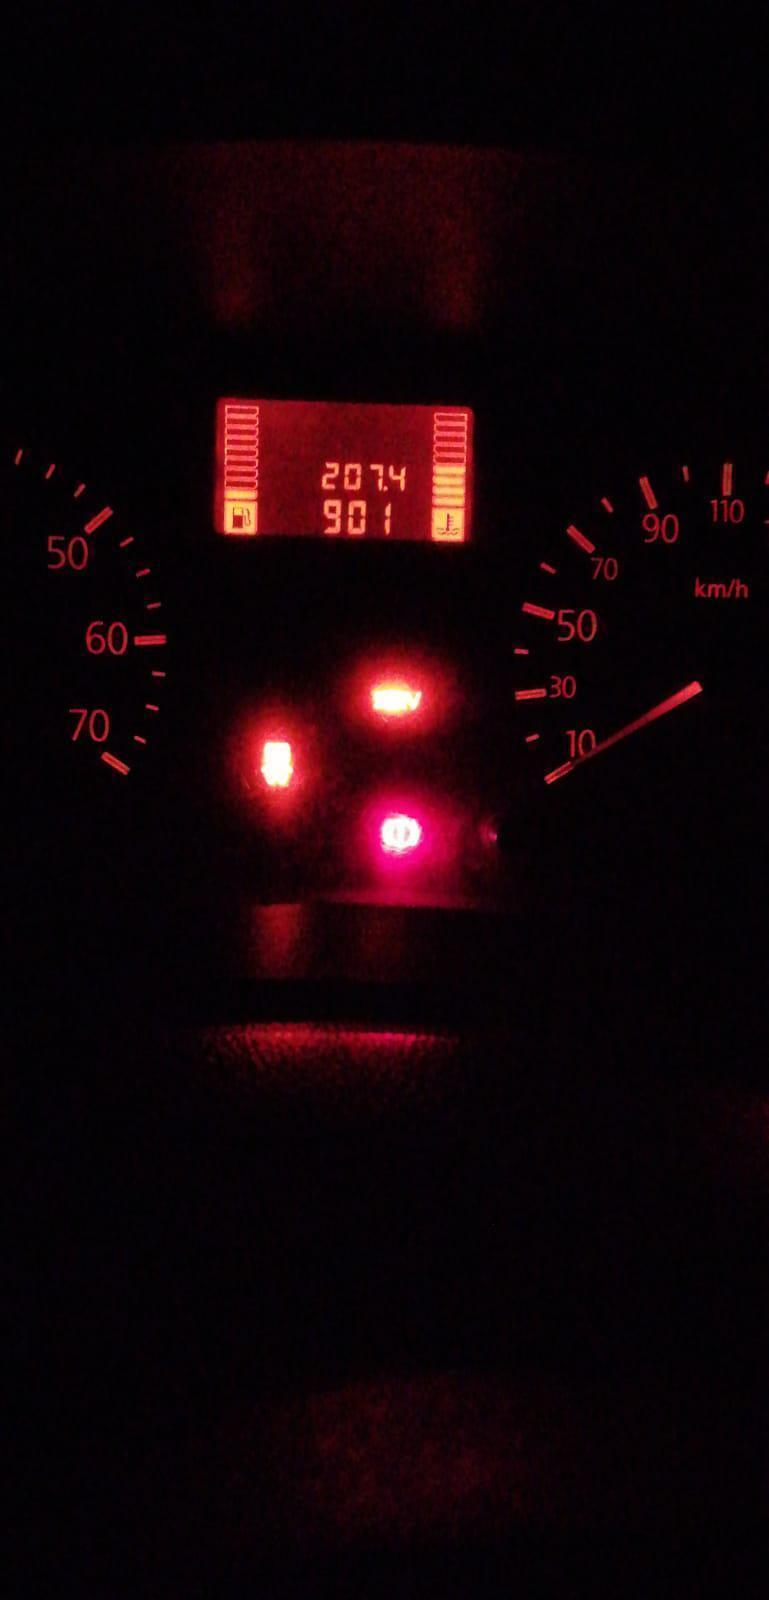,: (382, 485, 388, 492)
0: (346, 498, 367, 536), (342, 462, 362, 491)
1: (382, 502, 392, 537)
2: (320, 461, 339, 490)
4: (387, 464, 407, 492)
7: (368, 462, 385, 491)
9: (322, 498, 343, 535)
odometer: (210, 395, 476, 546)
